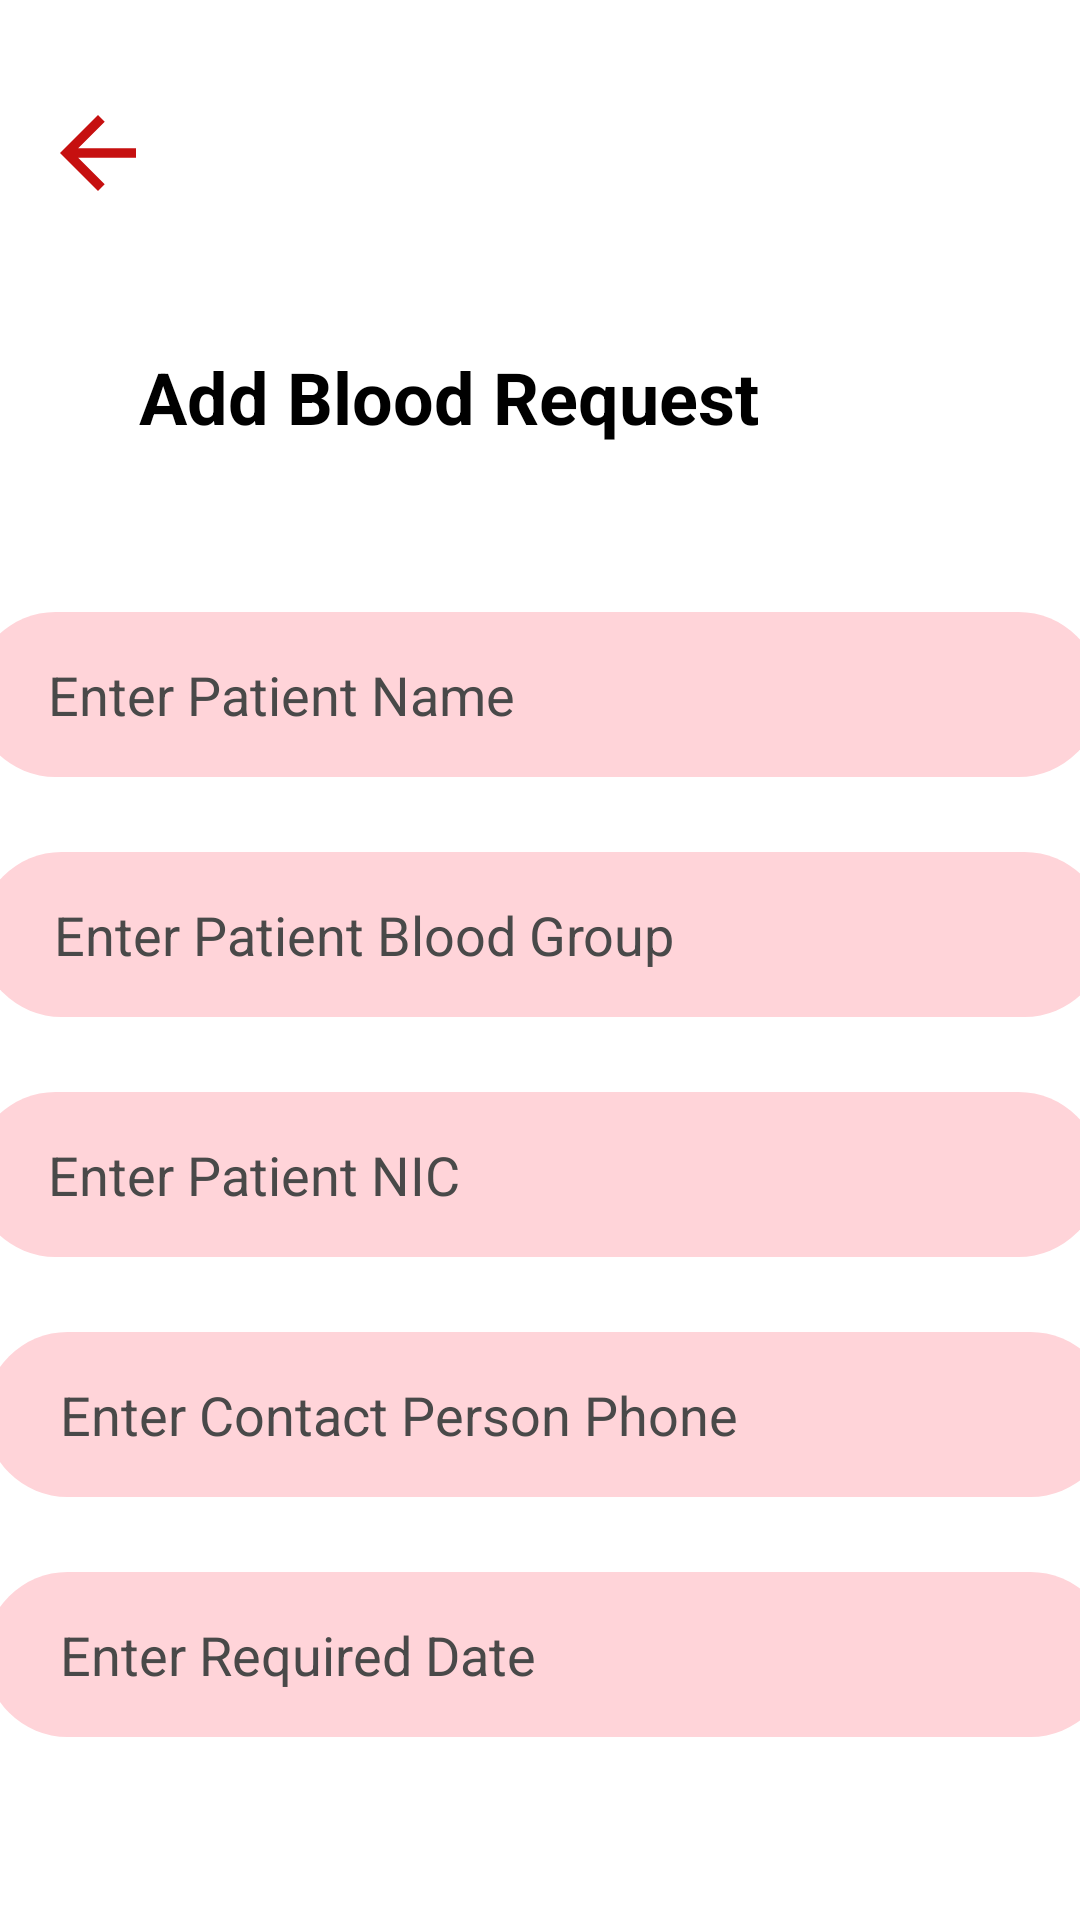

Point at icon controls on the screen. Image size 1080px×1920px, points as (x,y).
arrow back: (98,153)
